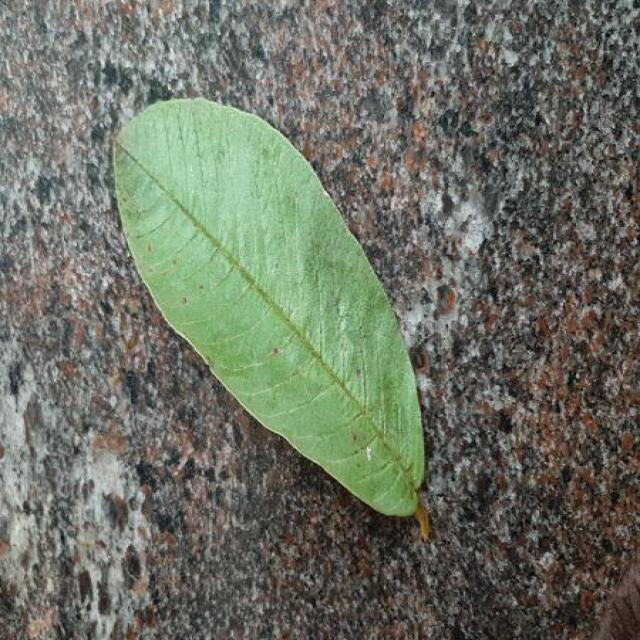leaf: (110, 94, 430, 539)
